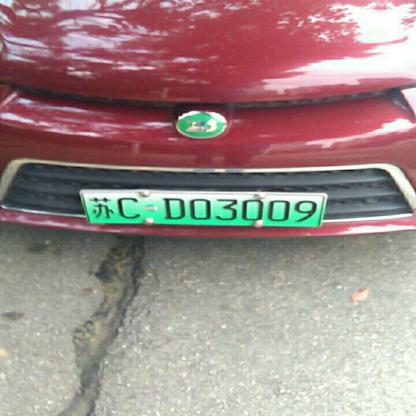lp: (81, 192, 322, 226)
